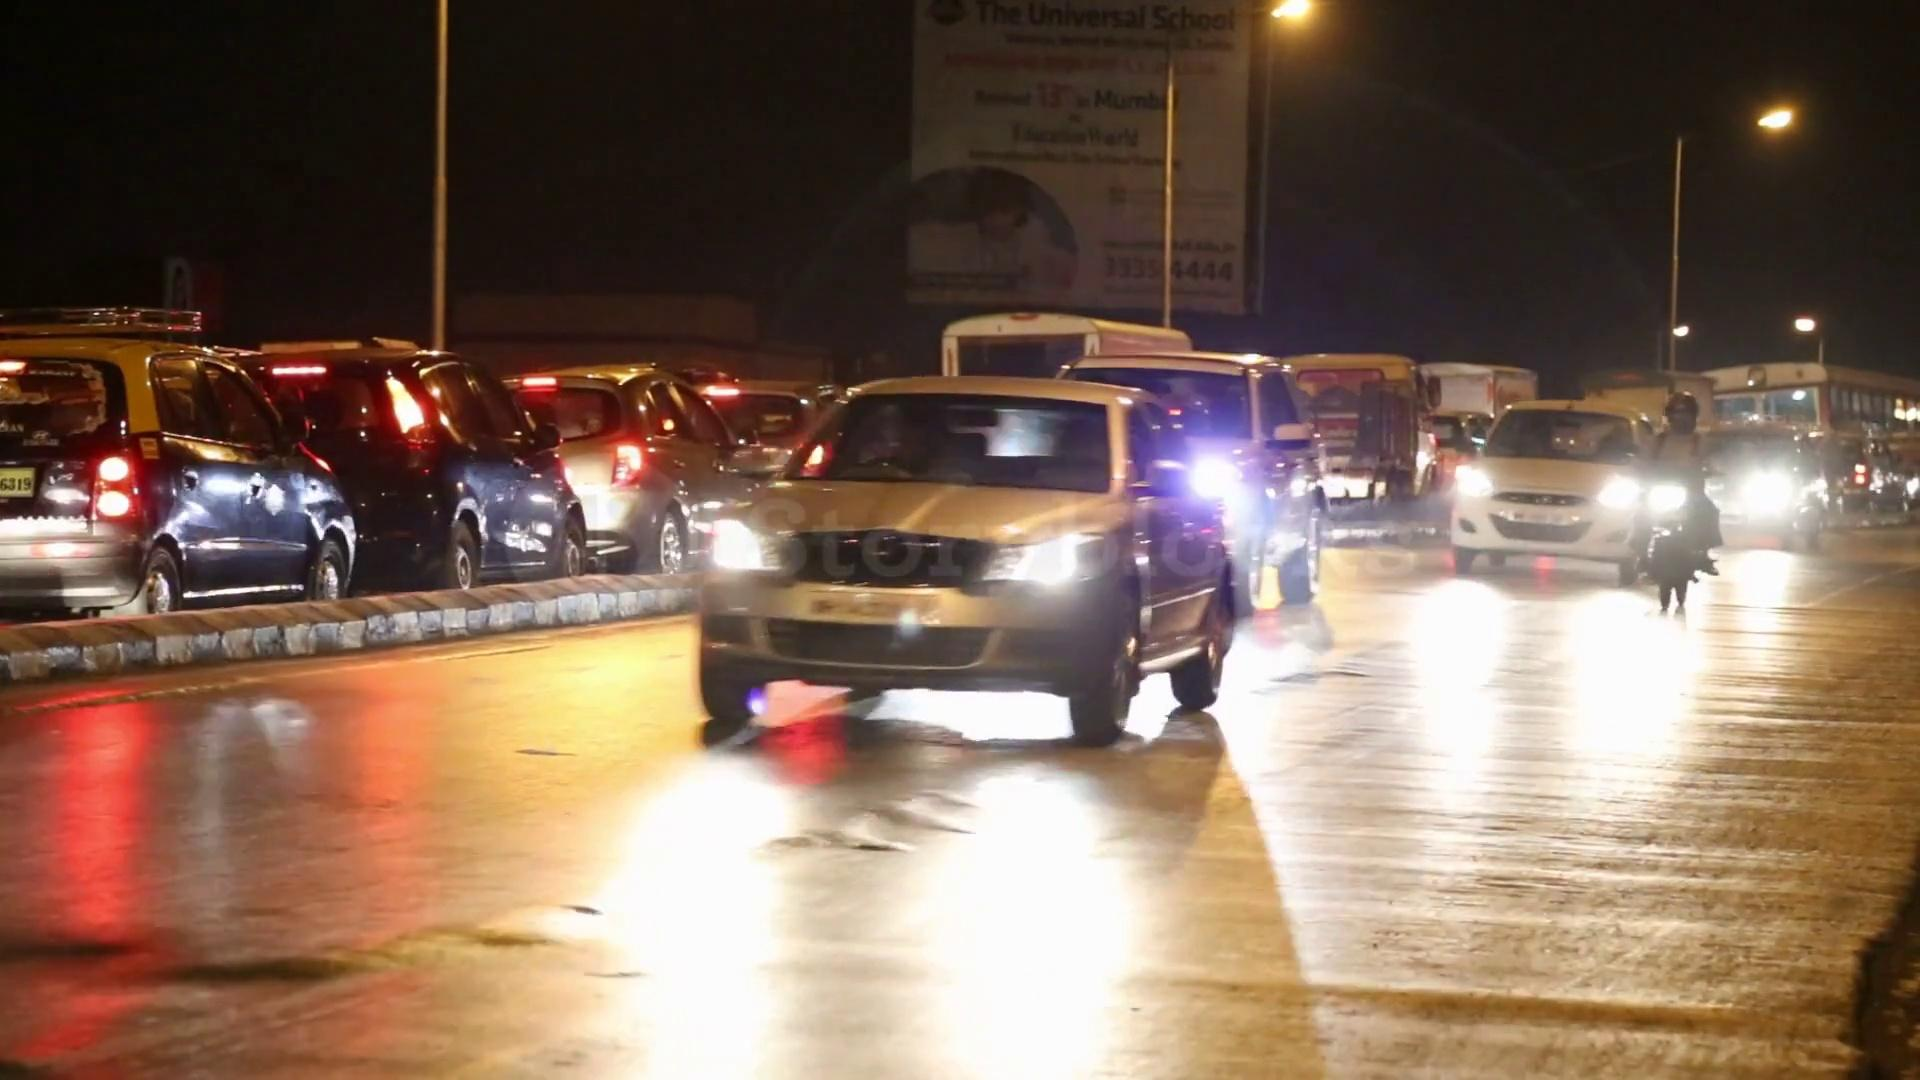rider: (1629, 390, 1723, 613)
